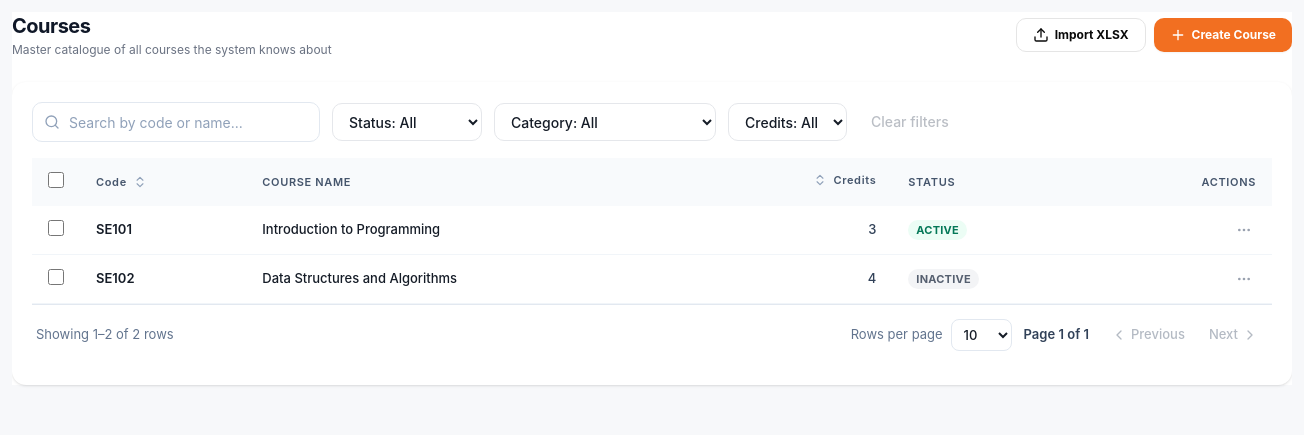
Test: Courses › refuses to delete a course that is still used in a curriculum
Expected: the text "SE102" is shown, [96,270,134,286]
Step 1. Click the button named "Actions for SE102" → [1244, 279], box [1232,267,1256,291]
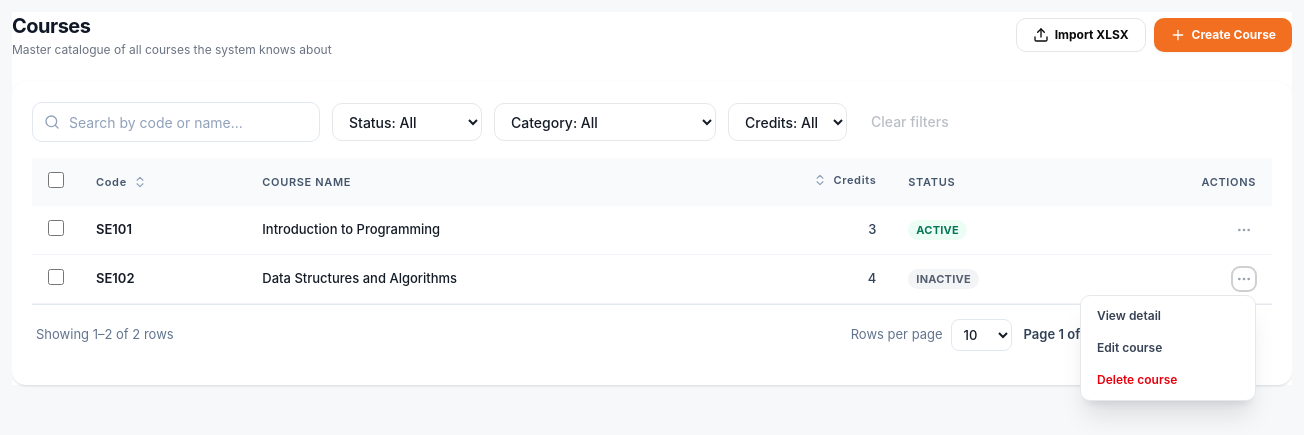
Step 2. Click the menu item "Delete course" → [1168, 380], box [1085,364,1251,396]
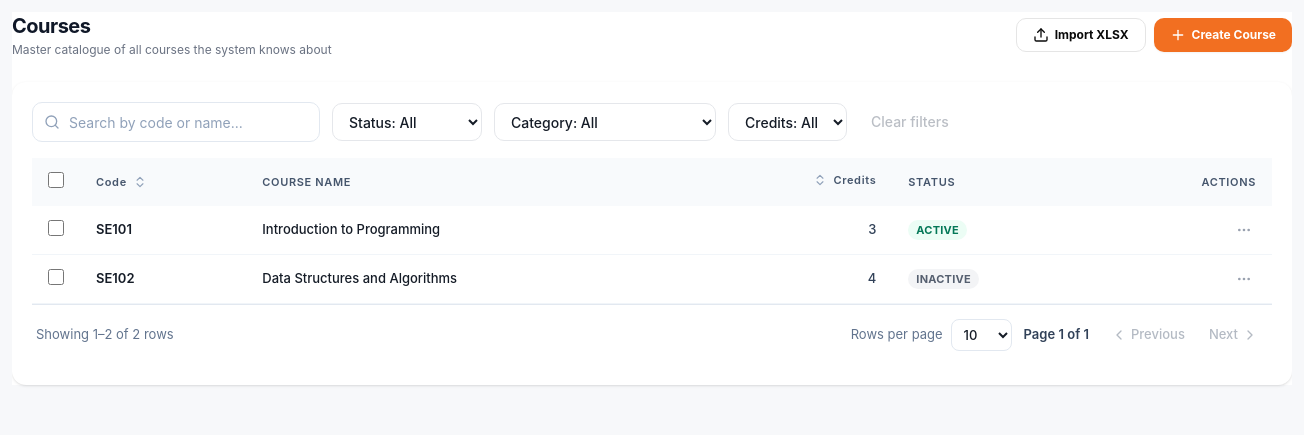
Result: the menu item "Delete course?" is gone
